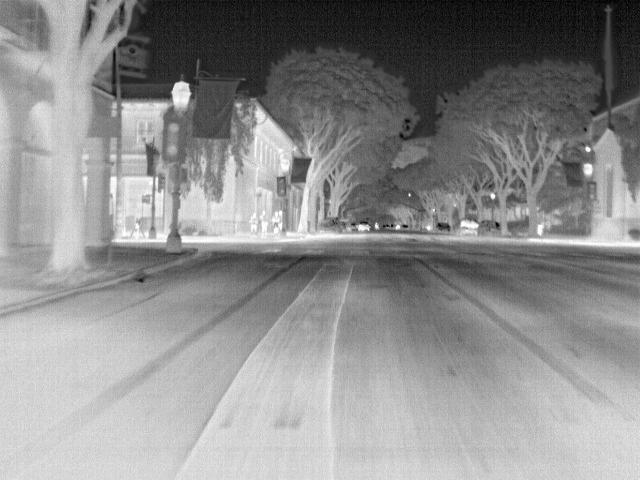car: (476, 220, 503, 236), (458, 218, 480, 236), (432, 223, 453, 236), (352, 220, 371, 234)
person: (258, 211, 270, 238), (270, 209, 283, 232), (247, 212, 261, 233)
